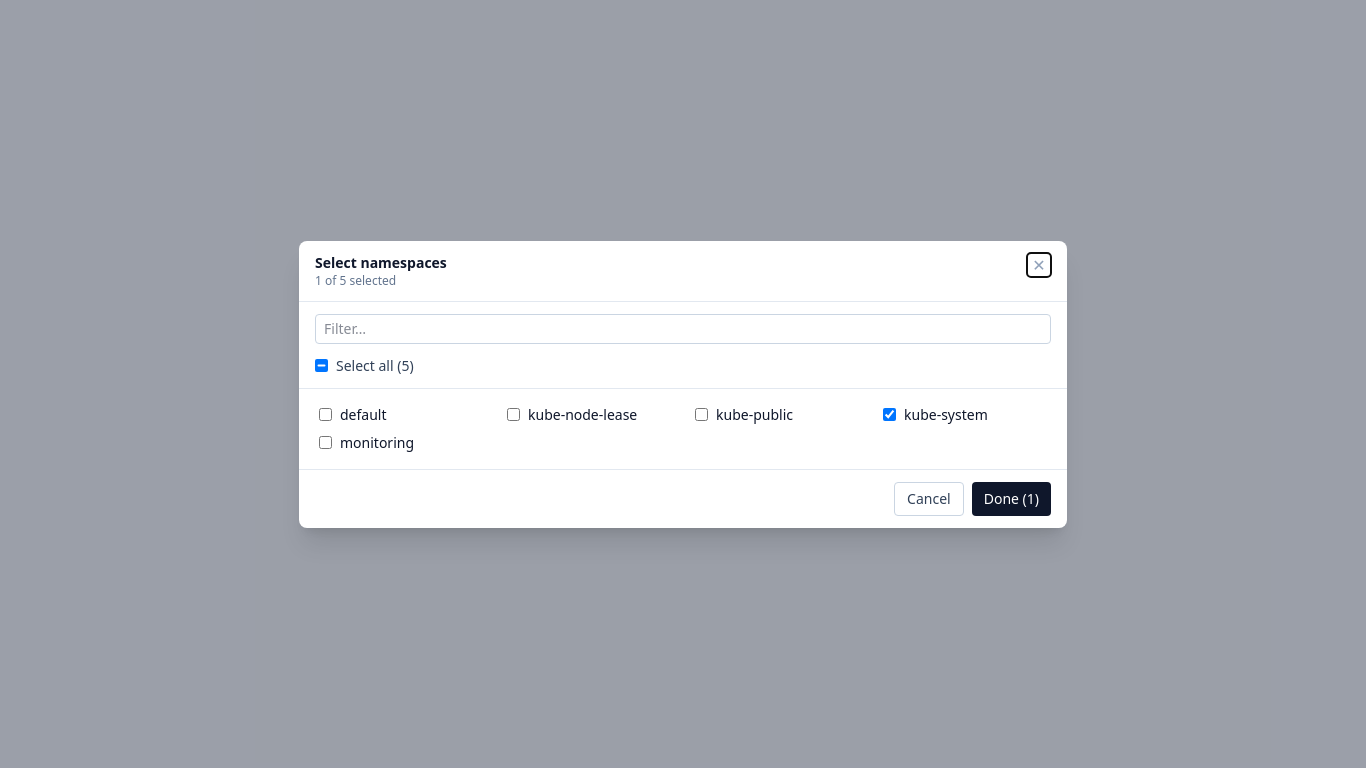
Scenario: NamespacePicker › is indeterminate when only some visible rows are selected
expect the checkbox labelled "Select all (5)" is not checked: met, box top-left (315, 359), bottom-right (328, 372)
Note: Selecting the rest flips it to a plain checked state.
Step 1. Click the checkbox labelled "default" → {"x": 326, "y": 414}, box top-left (319, 408), bottom-right (332, 421)
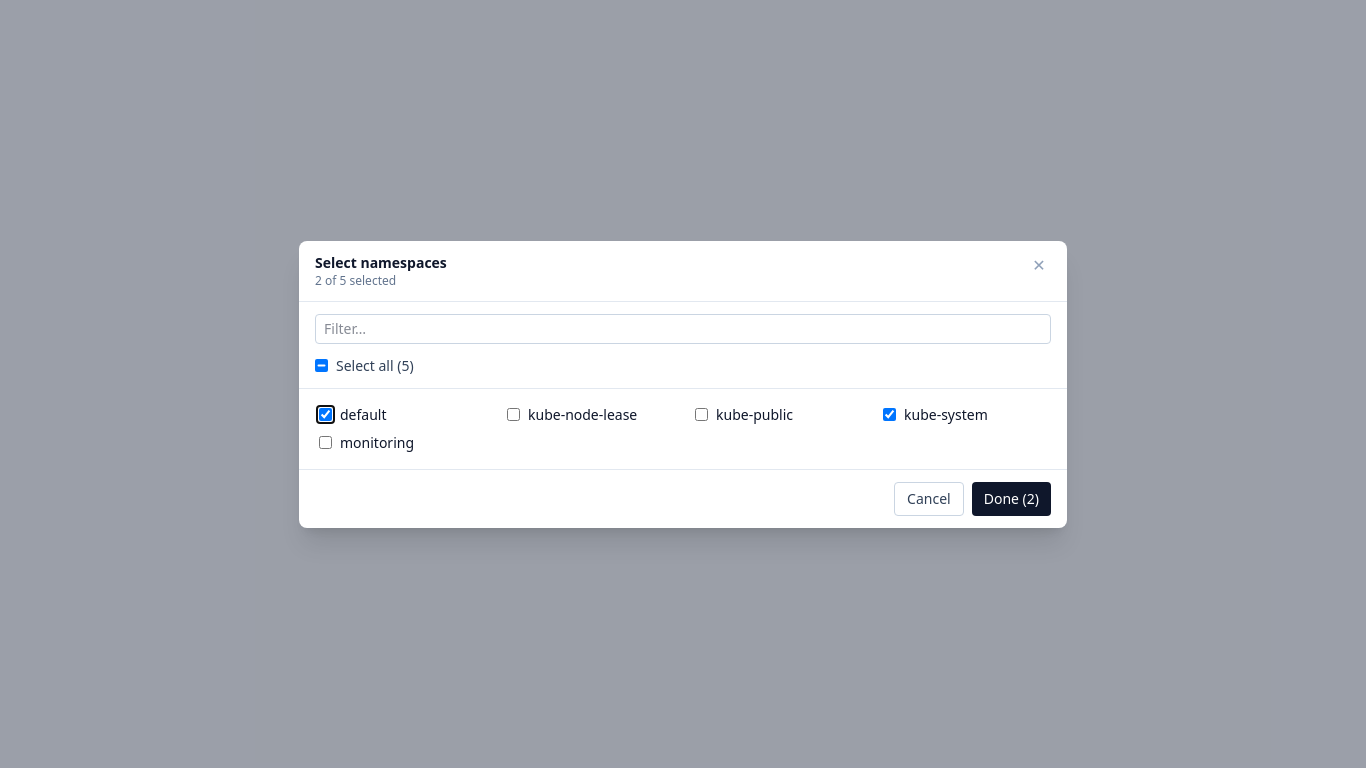
Step 2. Click the checkbox labelled "kube-node-lease" → {"x": 514, "y": 414}, box top-left (507, 408), bottom-right (520, 421)
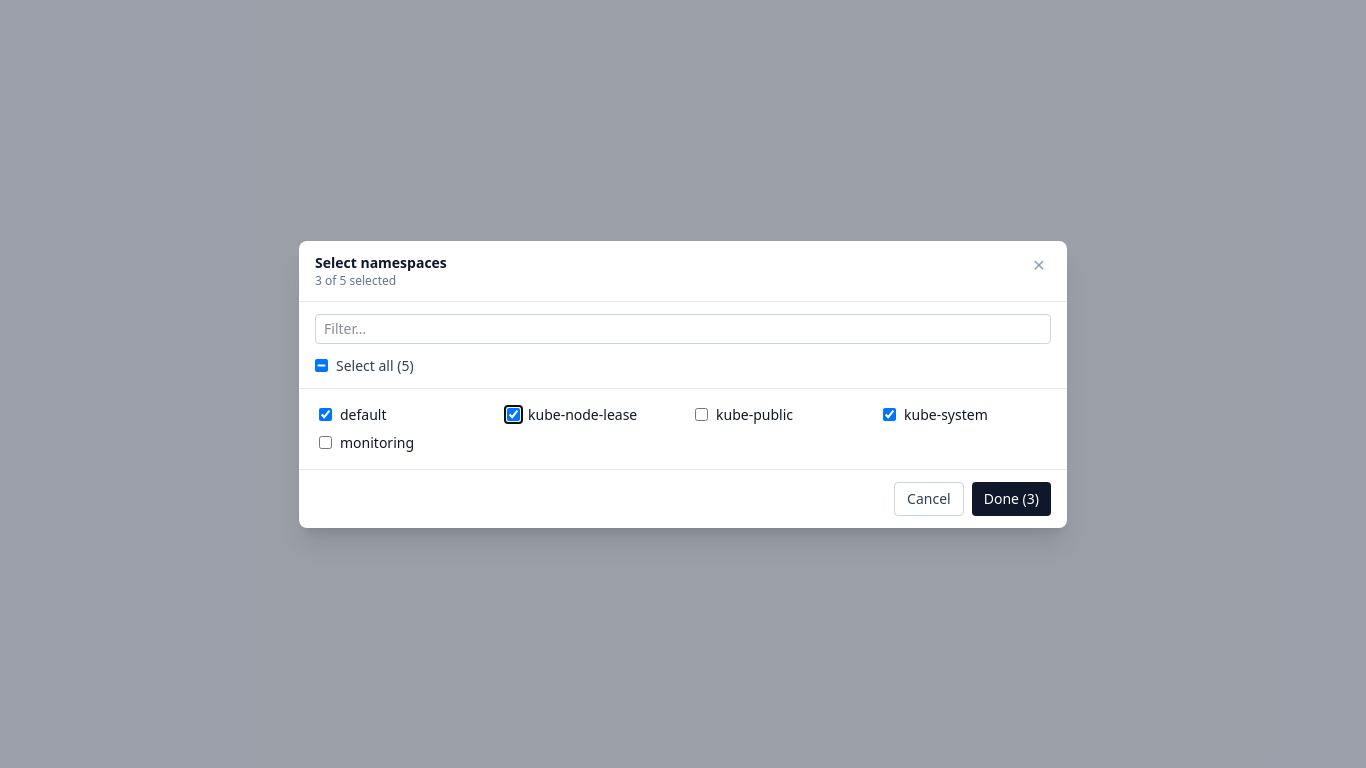
Step 3. Click the checkbox labelled "kube-public" → {"x": 702, "y": 414}, box top-left (695, 408), bottom-right (708, 421)
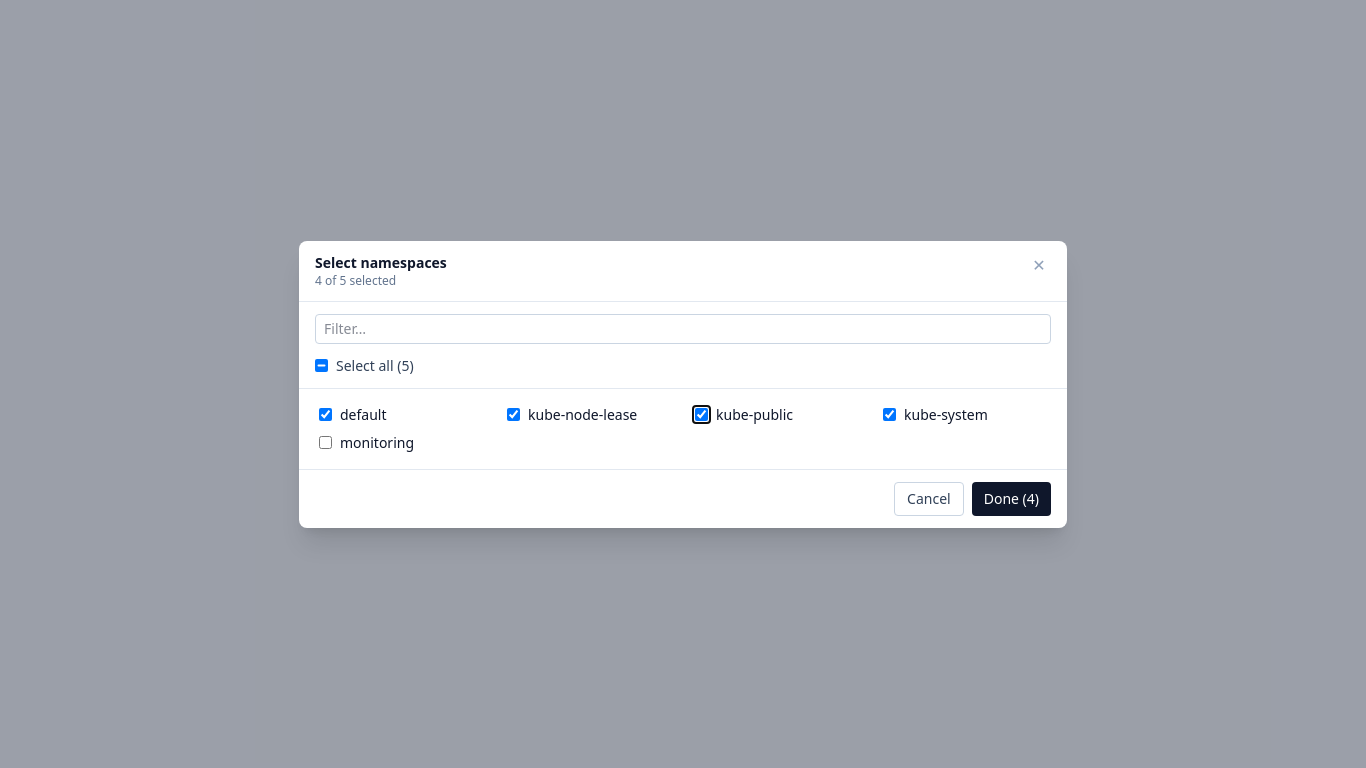
Step 4. Click the checkbox labelled "monitoring" → {"x": 326, "y": 442}, box top-left (319, 436), bottom-right (332, 449)
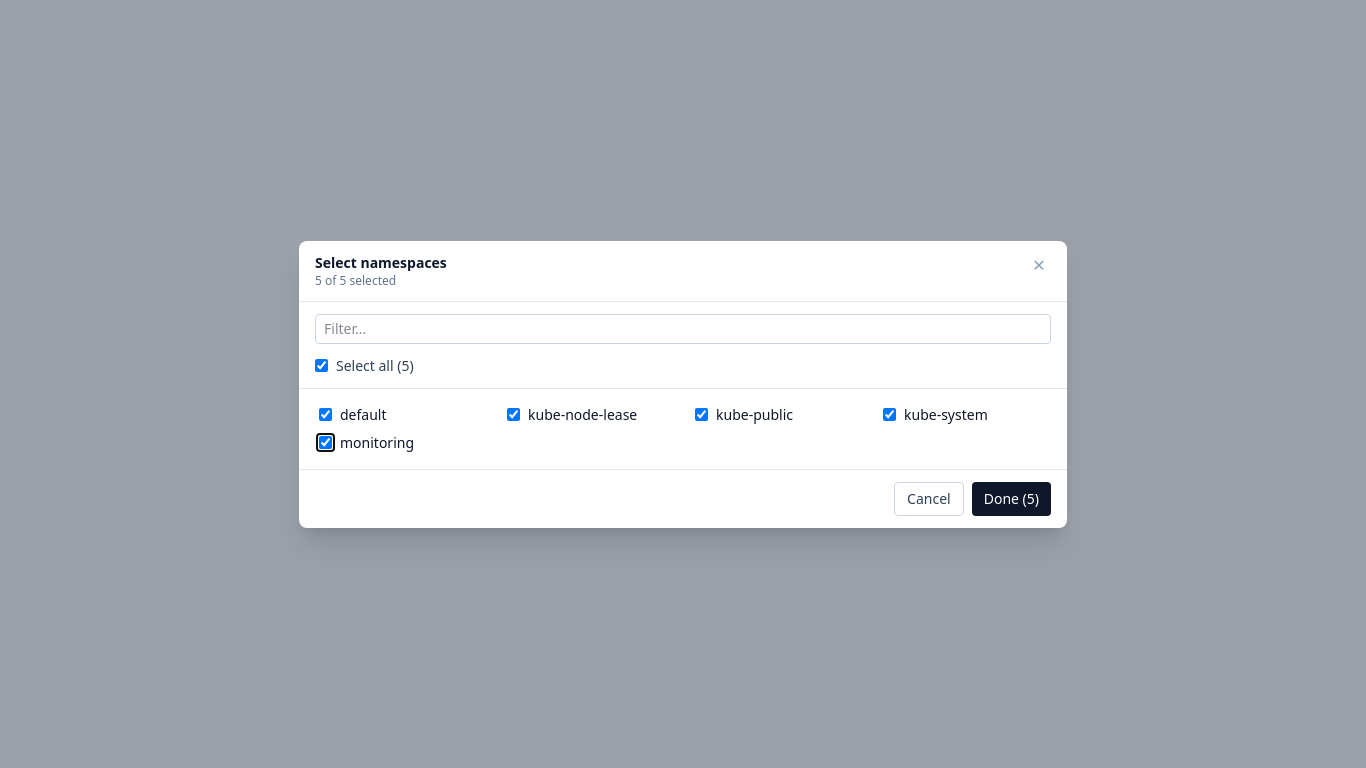
expect the checkbox labelled "Select all (5)" is checked: met, box top-left (315, 359), bottom-right (328, 372)
